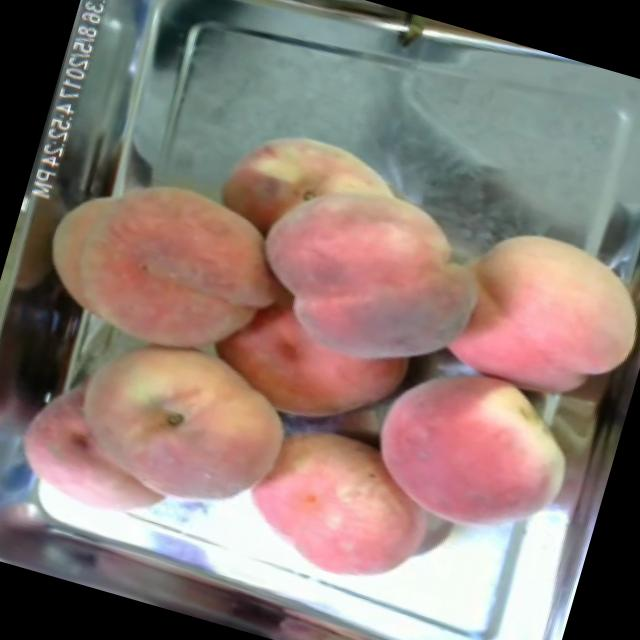Fruit: (192, 113, 506, 394), (0, 291, 316, 570), (18, 144, 307, 389), (348, 340, 599, 563), (424, 200, 640, 429), (221, 408, 451, 610)
